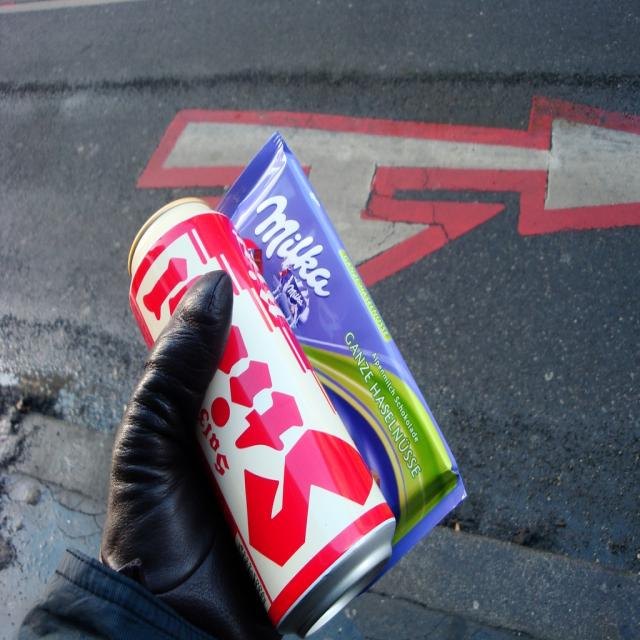milka: (254, 194, 337, 330)
